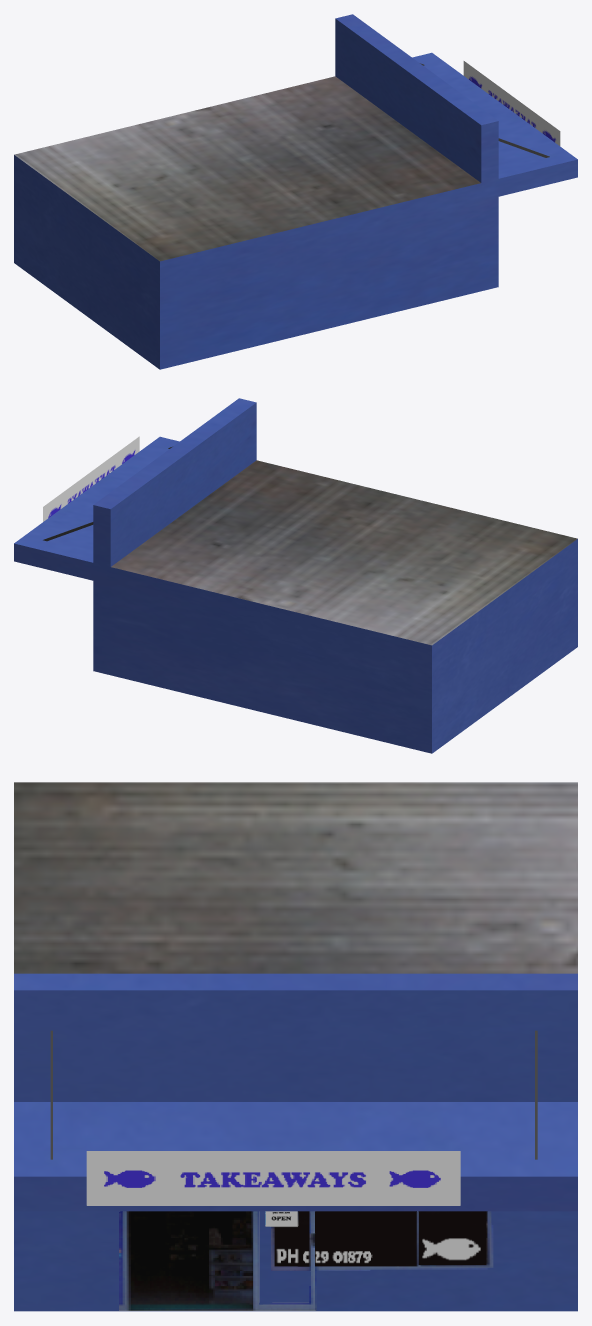
The model's file is FishNChips.fbx.
3 renders of one model, top to bottom at view 1: azimuth 30°, elevation 25°; view 2: azimuth 150°, elevation 25°; view 3: azimuth 270°, elevation 25°, orthographic. The views are drawn at different scales.
Parts seen in each view (by area): view 1: pCube1, pPlane2; view 2: pCube1, pPlane2; view 3: pCube1, Door1, pPlane2.
Part boxes in pixels (x1=…): pCube1: x1=14, y1=14, x2=577, y2=369; pPlane2: x1=463, y1=61, x2=560, y2=145; pCube1: x1=14, y1=398, x2=577, y2=753; pPlane2: x1=43, y1=436, x2=139, y2=521; pCube1: x1=14, y1=782, x2=577, y2=1311; Door1: x1=119, y1=1211, x2=493, y2=1310; pPlane2: x1=86, y1=1151, x2=460, y2=1205.
Bounding box in the file's own units: 18.49 × 7 × 11.15.
